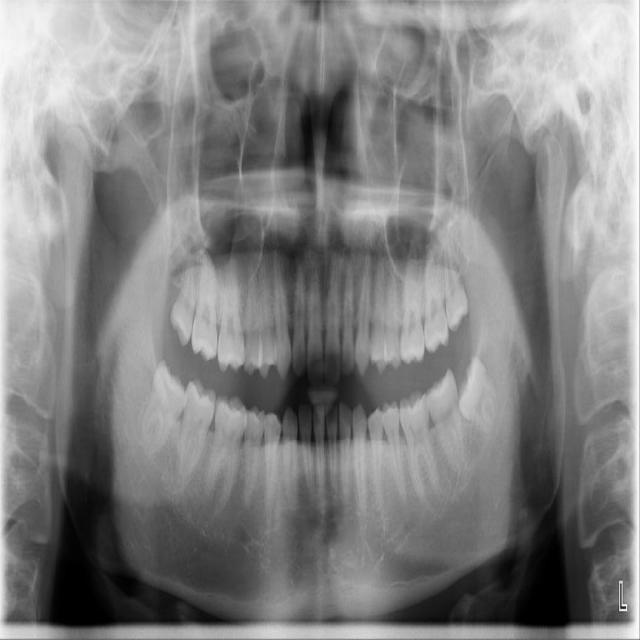impacted tooth: (457, 353, 511, 440), (136, 364, 186, 455)
